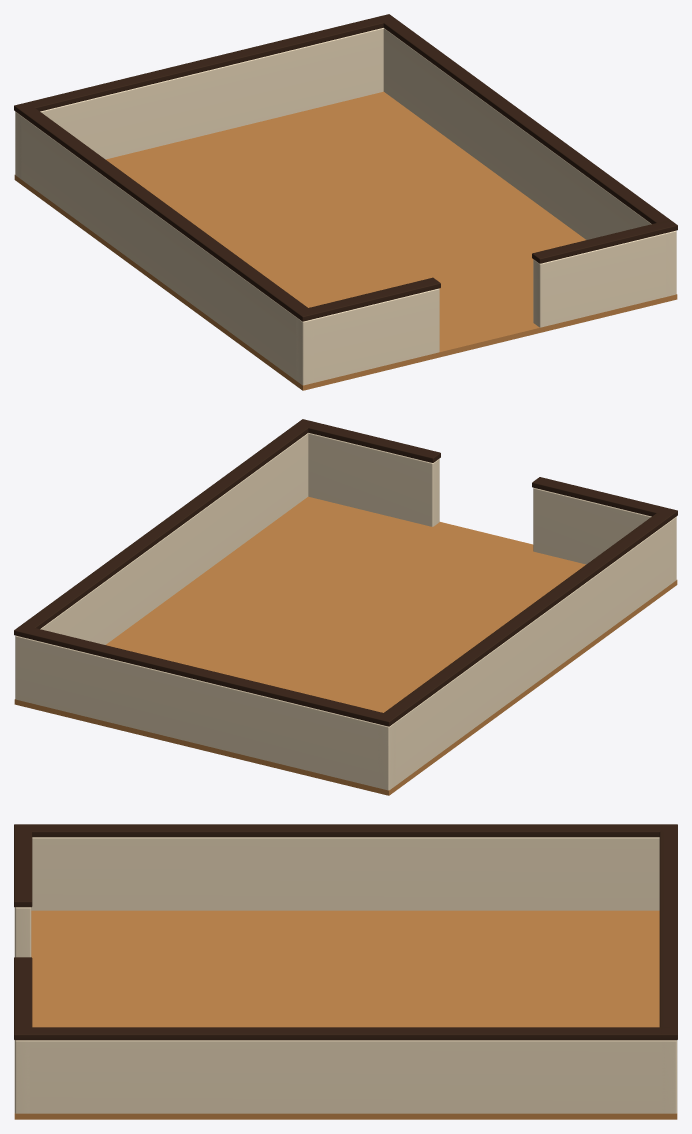
The model's file is room_cut_6x8.glb.
3 renders of one model, top to bottom at view 1: azimuth 30°, elevation 25°; view 2: azimuth 150°, elevation 25°; view 3: azimuth 270°, elevation 25°, orthographic. The views are drawn at different scales.
Parts seen in each view (by area): view 1: Floor, Wall2, Wall3, Wall4, Wall0, Wall1, Cap3, Cap4, Cap2, Cap0, Cap1; view 2: Floor, Wall2, Wall3, Wall4, Wall1, Wall0, Cap3, Cap4, Cap2, Cap1, Cap0; view 3: Floor, Wall4, Wall3, Cap4, Cap3, Cap2, Cap0, Cap1, Wall1, Wall0, Wall2.
Boxes of the visible parts, x1,y1,x2,y2 form: Floor: (14, 91, 677, 390); Wall2: (15, 28, 383, 178); Wall3: (15, 112, 313, 384); Wall4: (383, 28, 675, 296); Wall0: (296, 288, 439, 385); Wall1: (533, 230, 676, 327); Cap3: (14, 103, 315, 321); Cap4: (378, 14, 677, 232); Cap2: (14, 14, 395, 114); Cap0: (295, 277, 440, 321); Cap1: (532, 220, 677, 263); Floor: (14, 496, 677, 795); Wall2: (15, 635, 395, 790); Wall3: (378, 517, 676, 789); Wall4: (40, 433, 308, 644); Wall1: (308, 433, 439, 526); Wall0: (533, 488, 676, 583); Cap3: (376, 508, 677, 726); Cap4: (14, 420, 312, 637); Cap2: (14, 625, 396, 726); Cap1: (296, 419, 440, 462); Cap0: (532, 477, 677, 516); Floor: (14, 910, 677, 1119); Wall4: (15, 1040, 677, 1113); Wall3: (31, 837, 659, 910); Cap4: (14, 1027, 677, 1040); Cap3: (14, 824, 677, 837); Cap2: (659, 824, 677, 1040); Cap0: (14, 824, 32, 907); Cap1: (14, 957, 32, 1040); Wall1: (14, 1040, 29, 1113); Wall0: (14, 907, 31, 957); Wall2: (662, 1040, 677, 1113).
Bounding box in the file's own units: 6.02 × 1.14 × 8.02.
